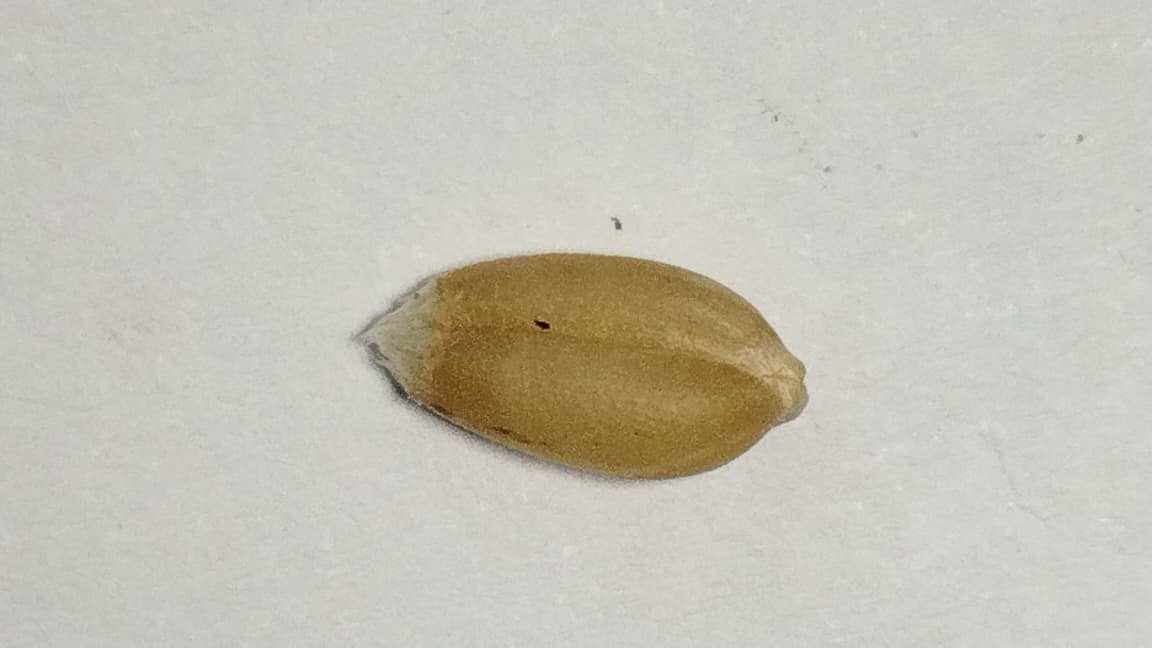healthy: (366, 253, 807, 479)
